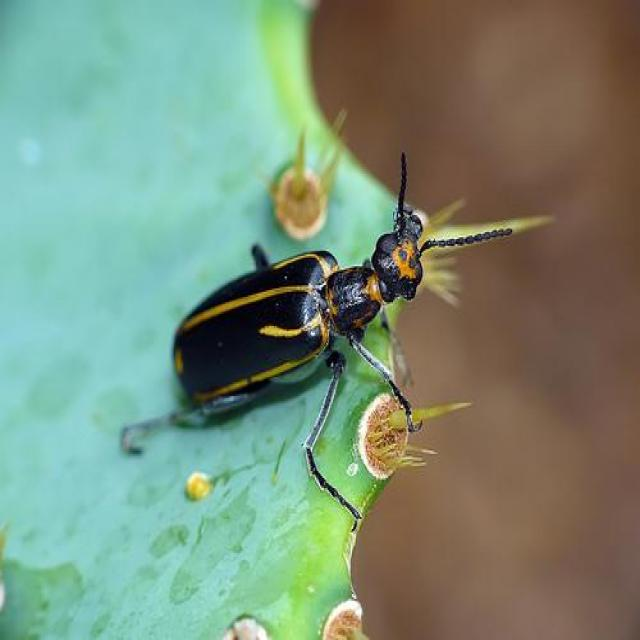BlisterBeetle-Adult-: (116, 146, 526, 454)
